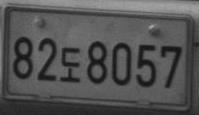0: (110, 41, 132, 85)
2: (37, 36, 57, 81)
5: (135, 43, 157, 87)
7: (159, 44, 182, 88)
8: (86, 40, 108, 84), (12, 35, 33, 80)
도: (60, 46, 81, 83)
